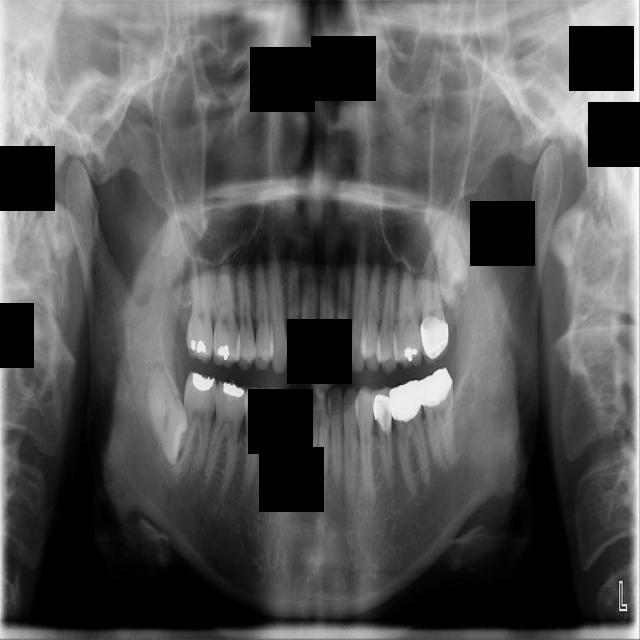52: (410, 364, 462, 414), (181, 371, 222, 417), (388, 379, 423, 424), (213, 380, 252, 420), (392, 323, 423, 370), (420, 315, 449, 365), (185, 317, 214, 364), (213, 326, 241, 369), (372, 386, 393, 435)
73: (622, 615, 625, 620)
BioHorizons Implant: (414, 228, 451, 364)
BioLife Implant: (425, 200, 475, 312)
Blue Sky Bio Implant: (418, 367, 460, 472)
Caries: (186, 235, 214, 364)
Implant: (169, 371, 221, 481)
Keystone Dental Implant: (141, 366, 193, 467)
